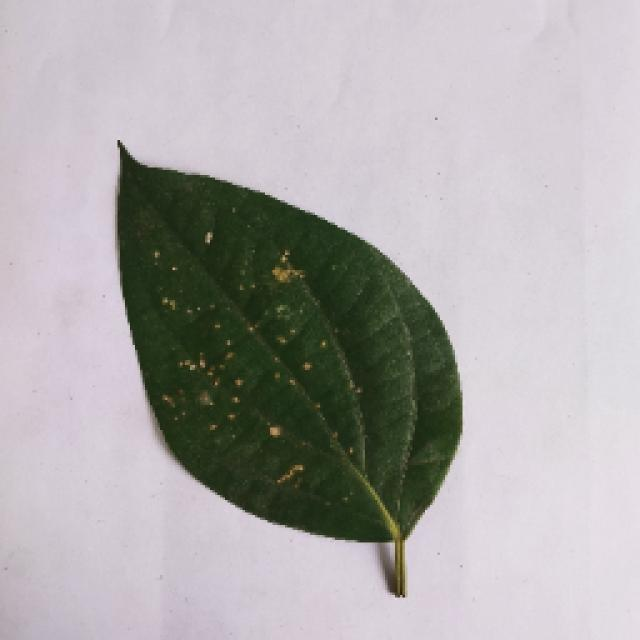pollu-disease: (108, 138, 462, 588)
